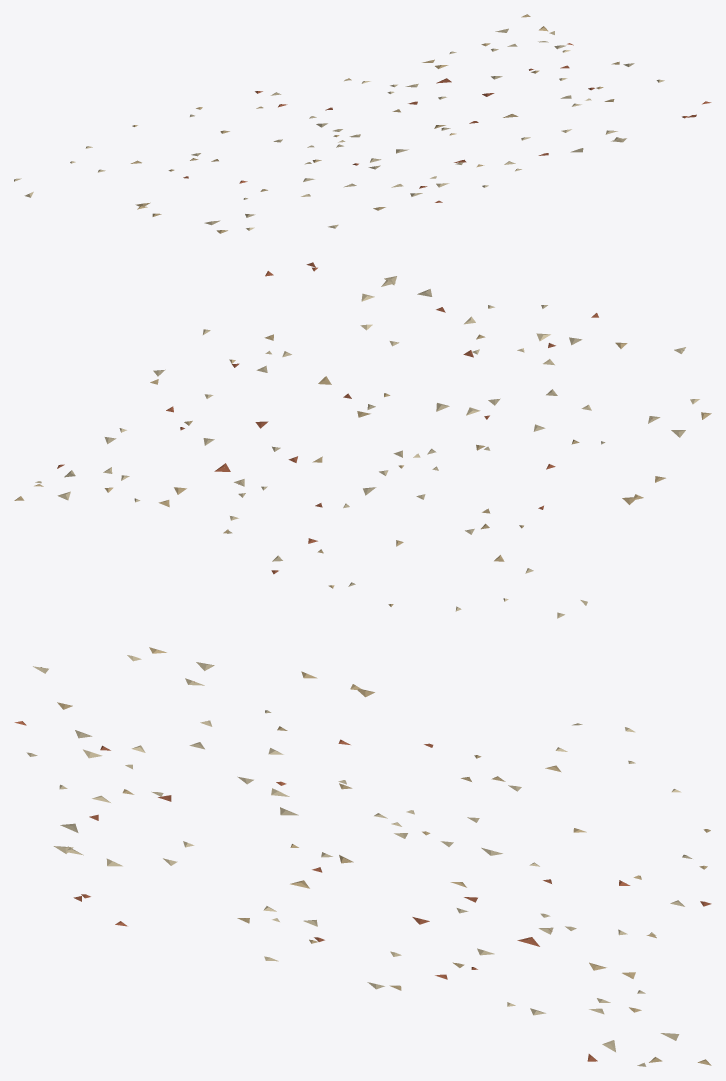
The model's file is dam_domes_kicker_detail2.glb.
3 views of the same model, one above another, from view 1: azimuth 30°, elevation 25°; view 2: azimuth 150°, elevation 25°; view 3: azimuth 270°, elevation 25° (orthographic). The views are drawn at different scales.
Visible parts, largest first — view 1: dam_domes_kicker_detail2; view 2: dam_domes_kicker_detail2; view 3: dam_domes_kicker_detail2.
Boxes of the visible parts, x1,y1,x2,y2 form: dam_domes_kicker_detail2: (14, 14, 711, 233); dam_domes_kicker_detail2: (14, 262, 711, 618); dam_domes_kicker_detail2: (14, 647, 711, 1066).
Size of the model in its own units: 23.52 by 4.35 by 19.38.
